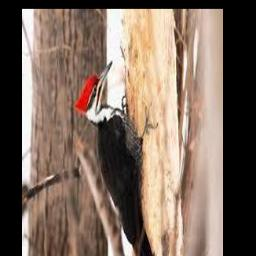Woodpecker: (74, 60, 156, 256)
